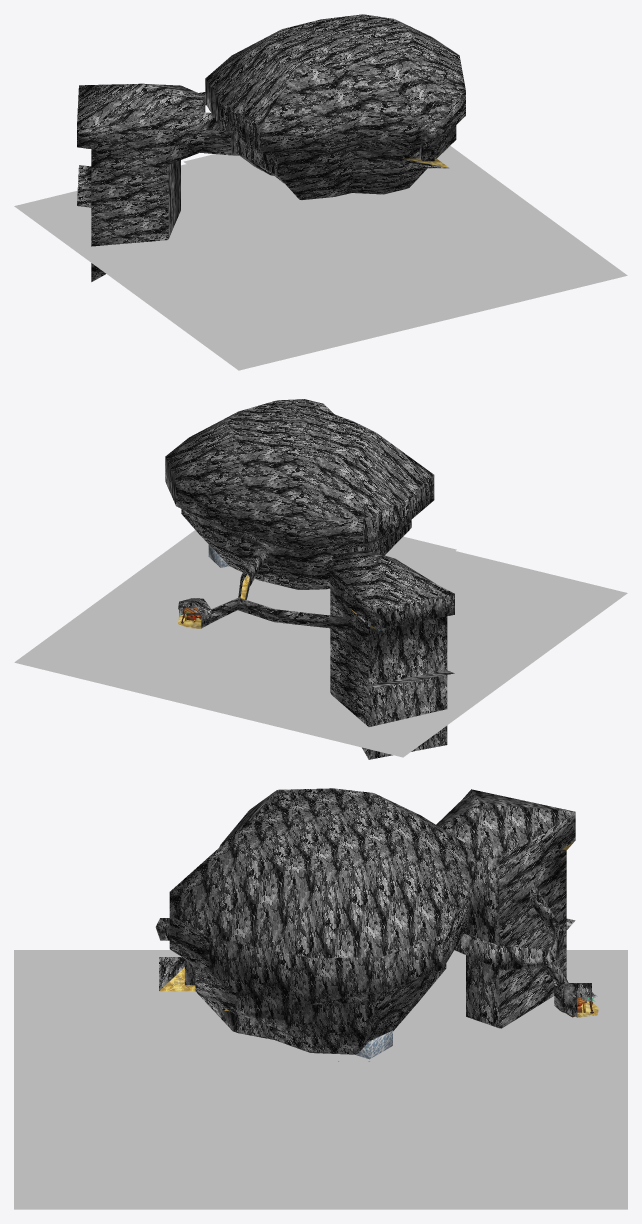
The model's file is level 8 area 2.obj.
3 renders of one model, top to bottom at view 1: azimuth 30°, elevation 25°; view 2: azimuth 150°, elevation 25°; view 3: azimuth 270°, elevation 25°, orthographic. The views are drawn at different scales.
Visible parts, largest first — view 1: max_level_size_sm64__1_; view 2: max_level_size_sm64__1_; view 3: max_level_size_sm64__1_.
Part boxes in pixels (bbox=[...]): max_level_size_sm64__1_: bbox=[14, 14, 627, 370]; max_level_size_sm64__1_: bbox=[14, 399, 627, 759]; max_level_size_sm64__1_: bbox=[14, 788, 627, 1209].
Bounding box in the file's own units: 236 × 137 × 236.
15 materials, 13 textured.
